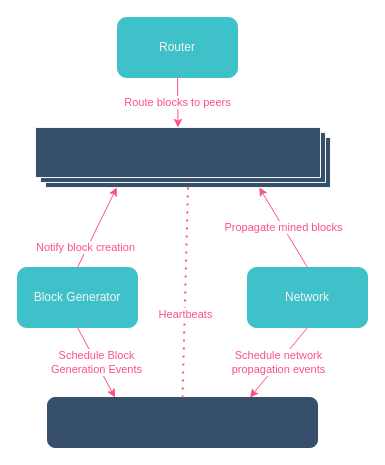
Image size: 385x465. Some labels were removed from this diagram. The shapes that lost their labels are listed below. From the top down, each one's box as (x1, y1, x2, y2) in pixels, then its label:
(34, 126, 330, 188): Pubsub Nodes
(46, 396, 318, 448): Scheduler
